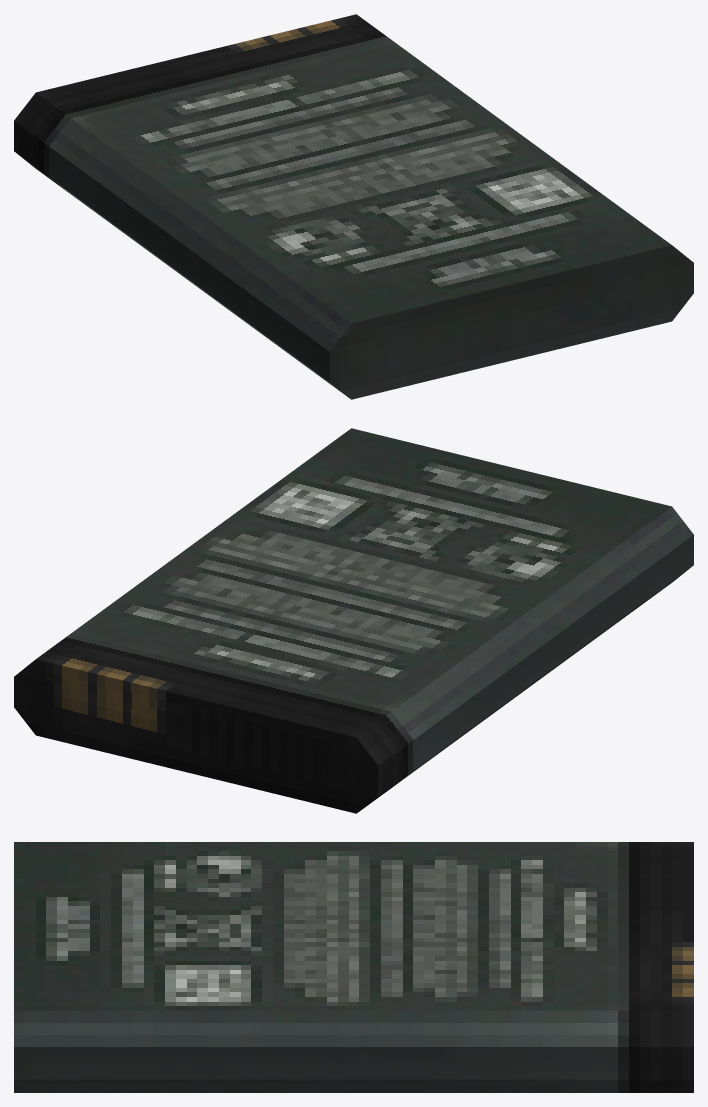
Rendered from cell_phone_battery_1.glb.
The picture shows the model from 3 angles, top to bottom: view 1: azimuth 30°, elevation 25°; view 2: azimuth 150°, elevation 25°; view 3: azimuth 270°, elevation 25°; orthographic projection. The views are drawn at different scales.
Visible parts, largest first — view 1: cell_phone_battery_1; view 2: cell_phone_battery_1; view 3: cell_phone_battery_1.
Boxes of the visible parts, left/top/right/bottom form: cell_phone_battery_1: left=14, top=14, right=693, bottom=399; cell_phone_battery_1: left=14, top=428, right=693, bottom=813; cell_phone_battery_1: left=14, top=842, right=693, bottom=1092.
Bounding box in the file's own units: 0.06 × 0.012 × 0.09.
1 material, 1 textured.
